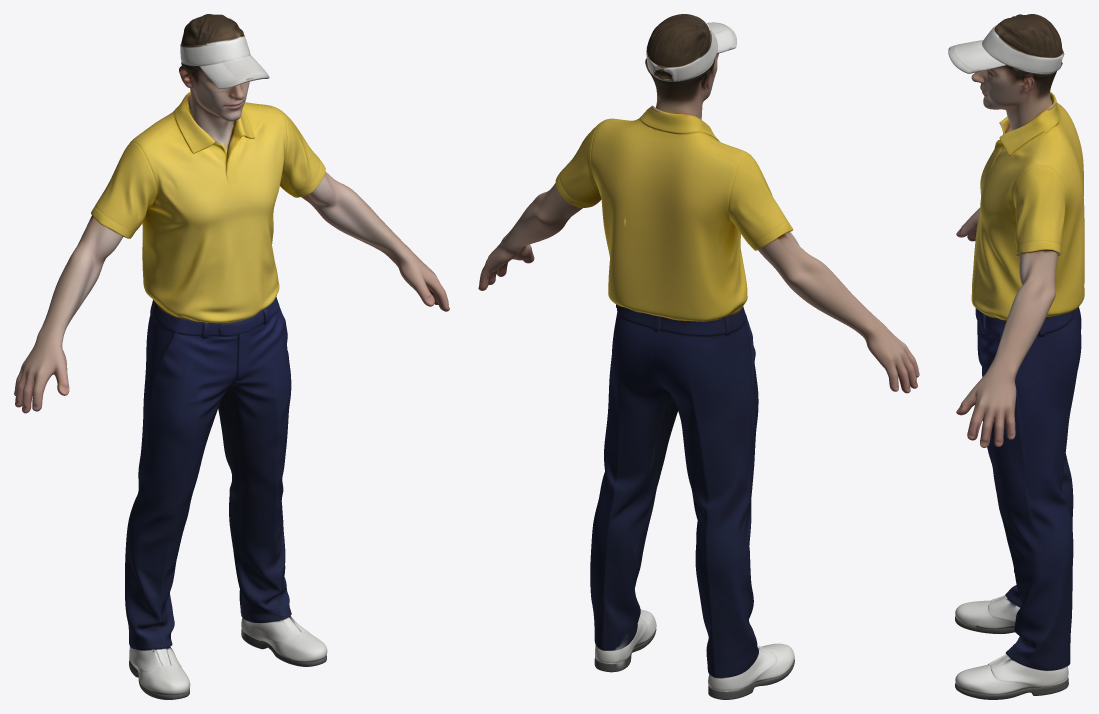
The picture shows the model from 3 angles, left to right: view 1: azimuth 30°, elevation 25°; view 2: azimuth 150°, elevation 25°; view 3: azimuth 270°, elevation 25°; orthographic projection.
Visible parts, largest first — view 1: node_0; view 2: node_0; view 3: node_0.
Boxes of the visible parts, x1=… form: node_0: x1=14, y1=14, x2=449, y2=699; node_0: x1=478, y1=14, x2=919, y2=699; node_0: x1=948, y1=14, x2=1084, y2=699.
Size of the model in its own units: 26189 by 37995 by 7328.
1 material, 1 textured.
